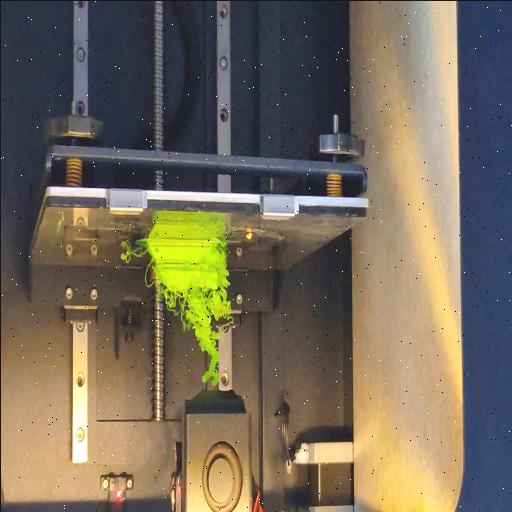spaghetti: (163, 284, 235, 388), (217, 236, 229, 284), (116, 244, 148, 262), (143, 262, 154, 288)
